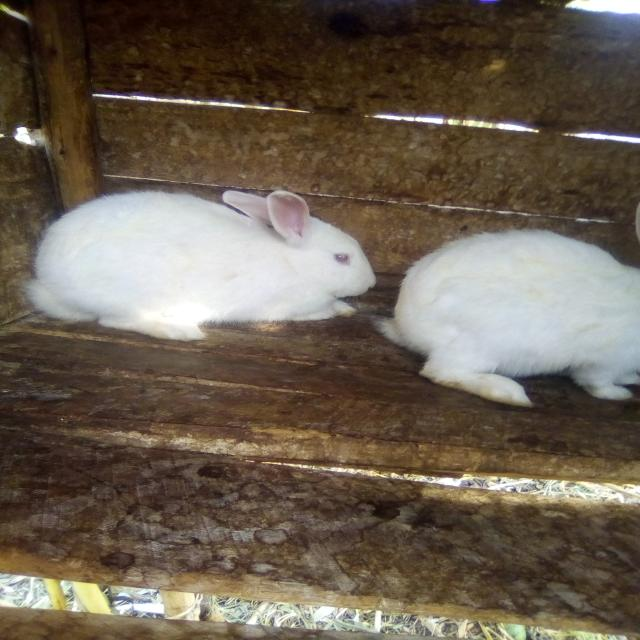rabbit: (0, 173, 388, 353)
